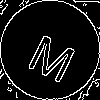M: (25, 25, 82, 84)
